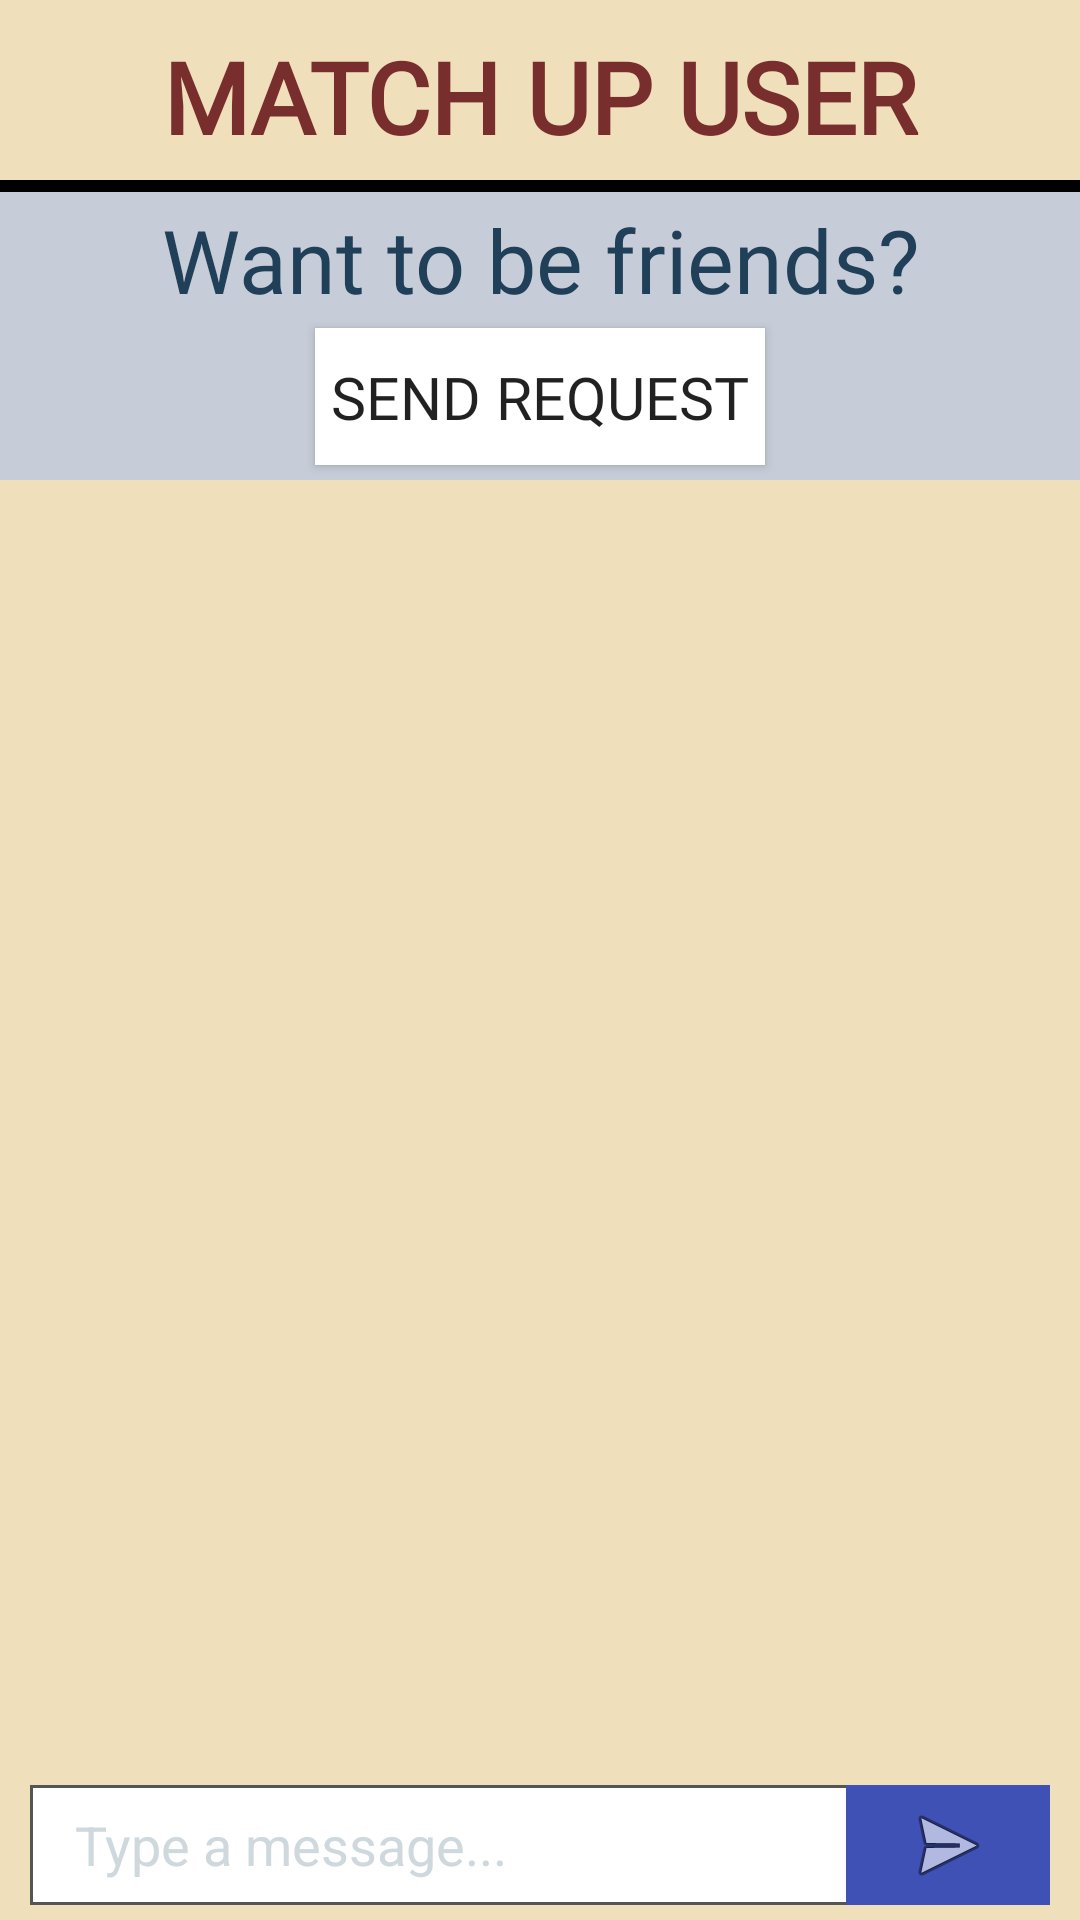

Where icons sit on this 1080w x 1920h app screen, as (x1, y1, x2, y2):
send: (846, 1785, 1050, 1905)
